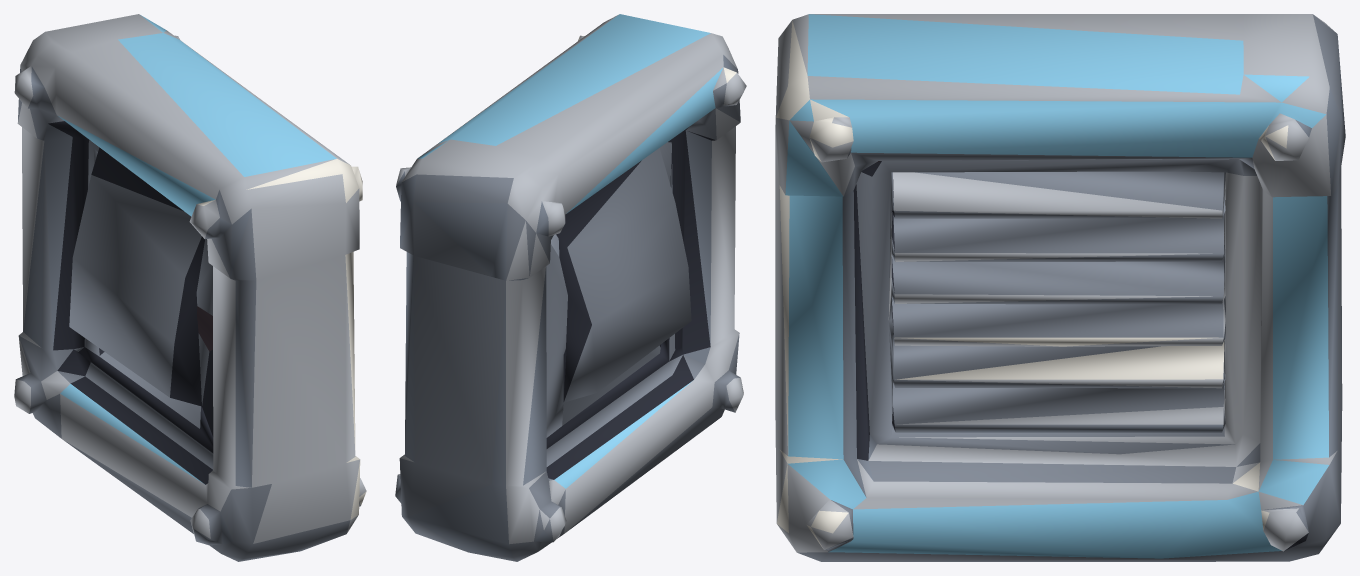
Rendered from SM_ac_wall_teal.fbx.
The picture shows the model from 3 angles, left to right: view 1: azimuth 30°, elevation 25°; view 2: azimuth 150°, elevation 25°; view 3: azimuth 270°, elevation 25°; orthographic projection. The views are drawn at different scales.
Visible parts, largest first — view 1: SM_ac_wall_teal; view 2: SM_ac_wall_teal; view 3: SM_ac_wall_teal.
Part boxes in pixels (x1,y1,x2,y2): SM_ac_wall_teal: (14, 14, 366, 561); SM_ac_wall_teal: (395, 14, 746, 561); SM_ac_wall_teal: (775, 14, 1345, 561).
Bounding box in the file's own units: 20.33 × 45 × 46.78.
Materials: 1 (1 with a texture image).
